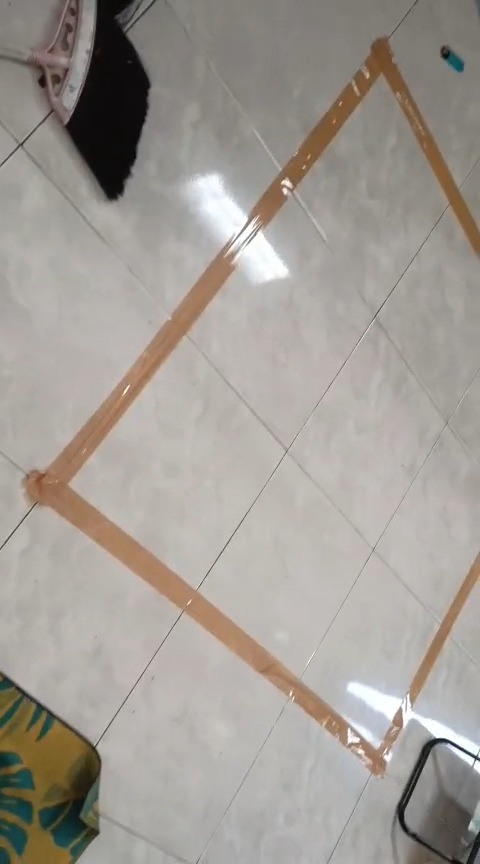floor marking: (27, 38, 479, 775)
